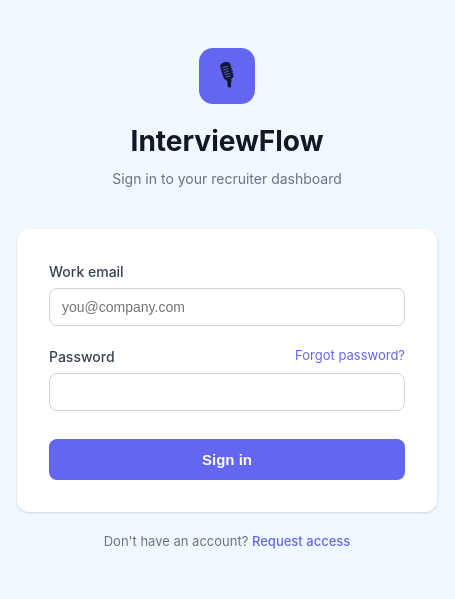
Test: LoginPage › shows error message on invalid credentials
The image size is (455, 599).
Type "test@example.com" into the field labelled "Work email".
click(227, 307); type("test@example.com")  # box [49,288,405,326]
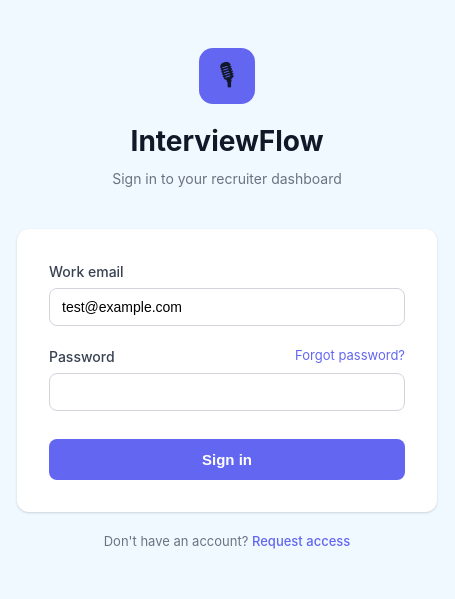
Type "WrongPass!" into the password field labelled "Password".
click(227, 392); type("WrongPass!")  # box [49,373,405,411]
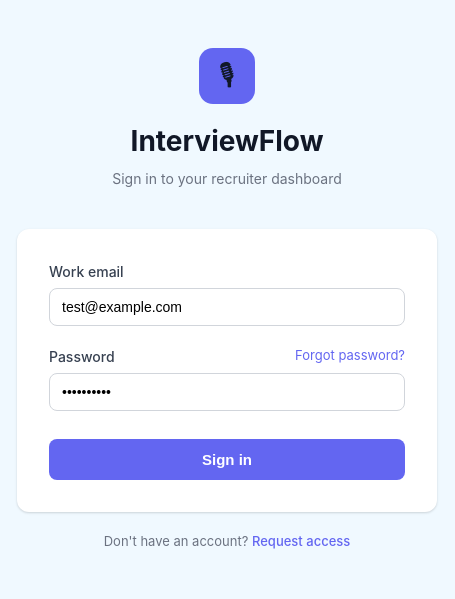
Click the button "Sign in".
click(227, 460)  # box [49,439,405,480]
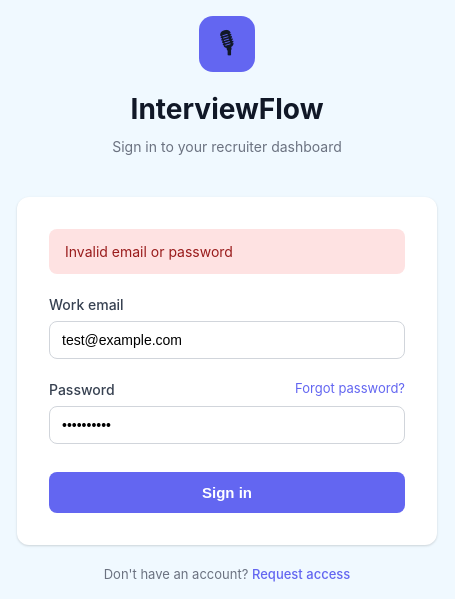
Now the text "Invalid email or password" is shown, box [49,229,405,274]
